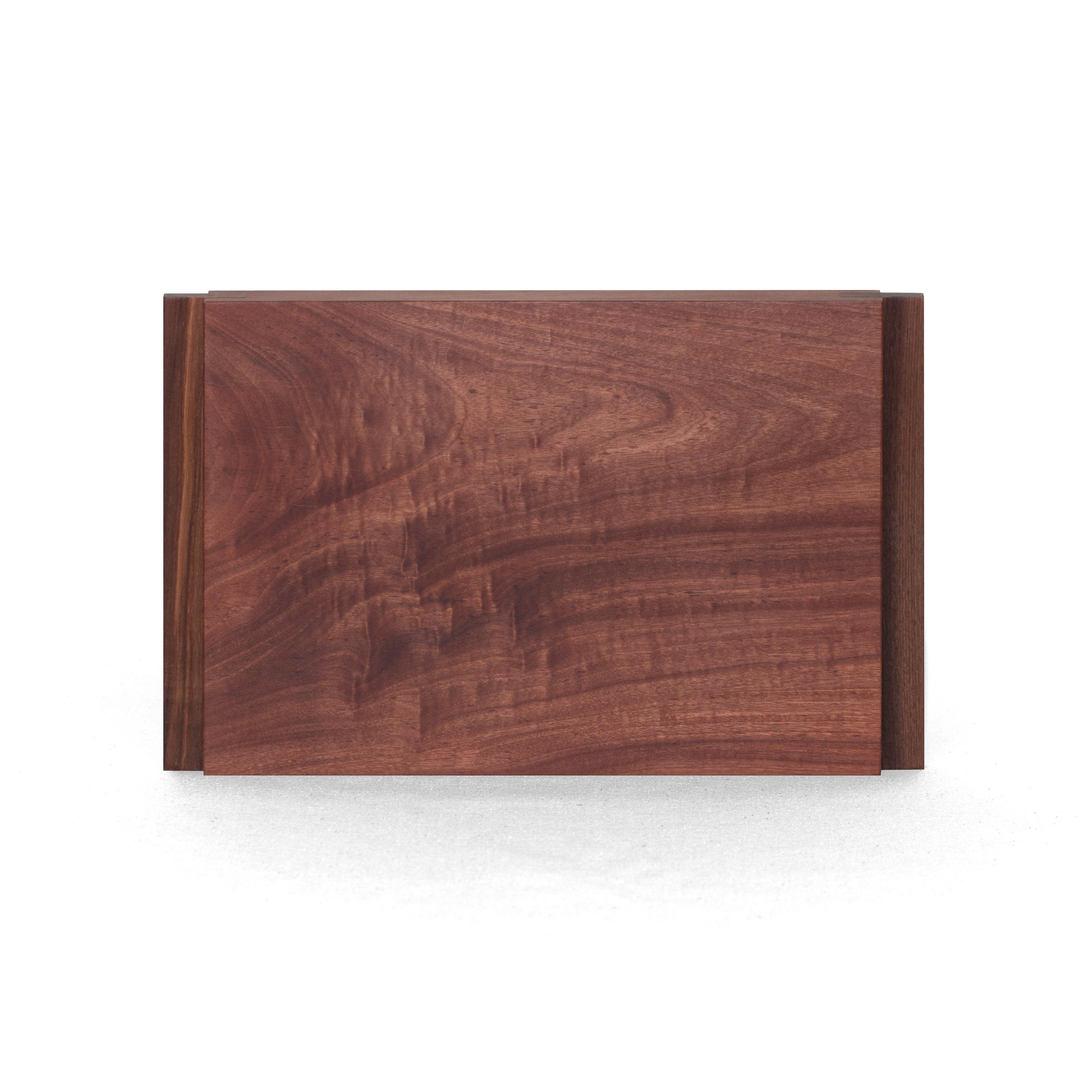gloved_hand: (140, 271, 955, 805)
